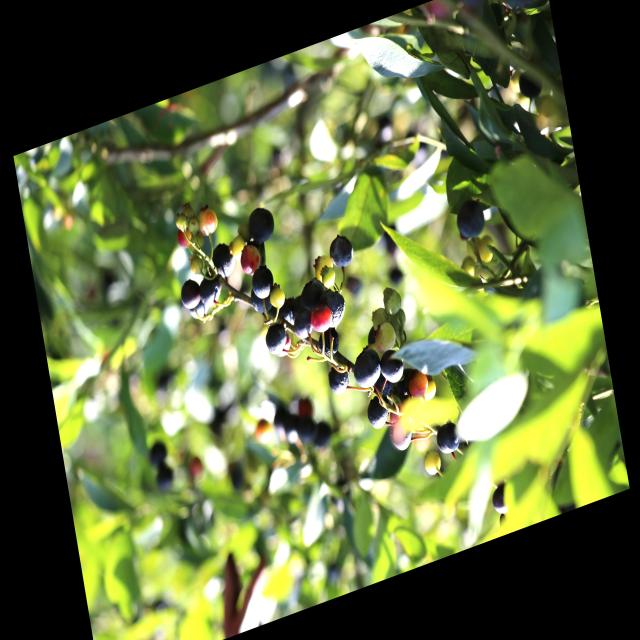blueberry: (349, 343, 384, 393), (453, 195, 488, 245), (326, 228, 357, 274), (246, 203, 278, 247), (320, 286, 349, 330), (249, 260, 278, 302), (377, 346, 406, 388), (432, 419, 462, 459), (210, 239, 237, 282), (365, 392, 391, 434), (263, 320, 291, 358), (298, 276, 326, 314), (315, 323, 343, 360), (326, 361, 352, 398), (198, 272, 222, 311), (178, 276, 202, 313), (291, 308, 316, 342), (250, 290, 273, 317), (188, 299, 210, 324)
blueberry-halfripe: (308, 301, 336, 338), (238, 240, 262, 277), (406, 368, 430, 402), (275, 331, 293, 359), (175, 226, 193, 252), (388, 404, 403, 428)
blueberry-unripe: (374, 319, 398, 357), (380, 283, 405, 317), (420, 446, 444, 480), (312, 251, 335, 285), (197, 205, 220, 239), (369, 304, 393, 332), (268, 281, 288, 311), (228, 236, 248, 265), (421, 375, 439, 403), (389, 307, 408, 333), (320, 266, 338, 288), (190, 256, 205, 276)
